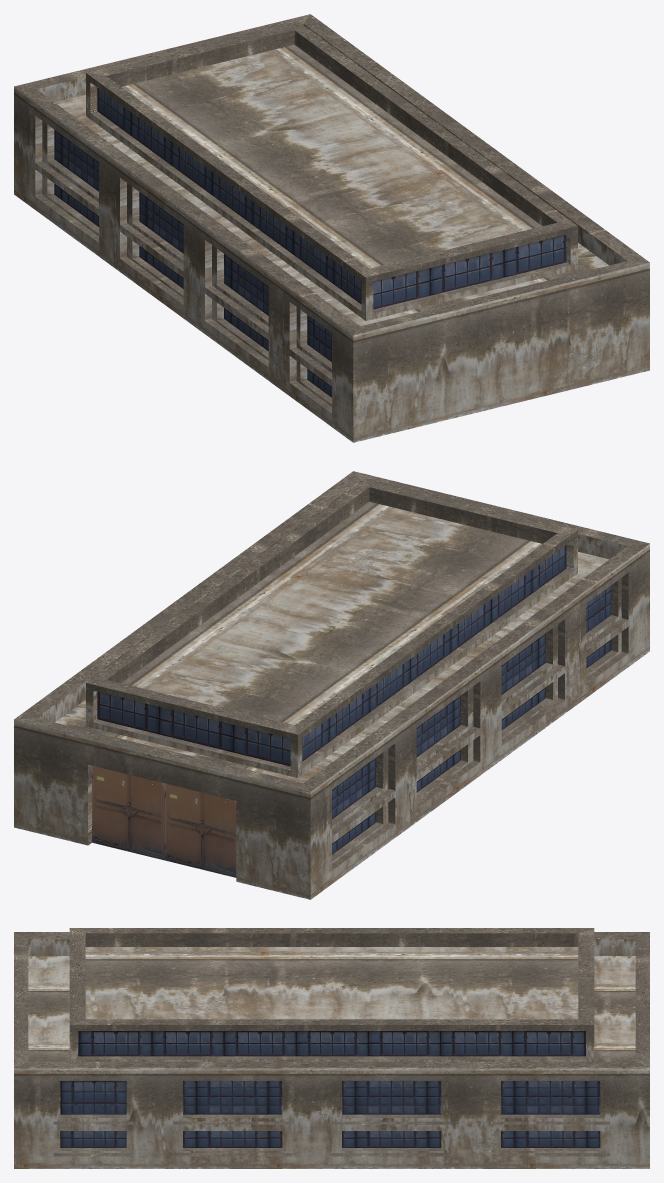
The model's file is building2_lod1.fbx.
3 renders of one model, top to bottom at view 1: azimuth 30°, elevation 25°; view 2: azimuth 150°, elevation 25°; view 3: azimuth 270°, elevation 25°, orthographic. The views are drawn at different scales.
Parts seen in each view (by area): view 1: Mesh Object; view 2: Mesh Object; view 3: Mesh Object.
Boxes of the visible parts, <box> form: Mesh Object: <box>14,14,649,442</box>; Mesh Object: <box>14,471,649,899</box>; Mesh Object: <box>14,928,649,1168</box>.
Size of the model in its own units: 23 by 9.86 by 45.57.
